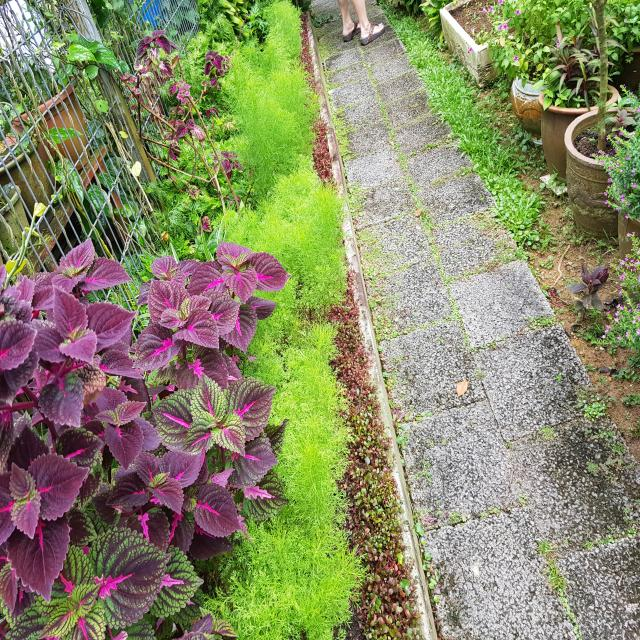Coleus: (0, 224, 128, 468), (0, 515, 155, 639), (0, 427, 89, 598), (160, 376, 272, 472), (139, 276, 231, 368), (188, 241, 291, 312), (135, 25, 176, 70), (202, 48, 234, 84), (219, 149, 240, 175), (175, 118, 200, 138), (170, 80, 190, 103)
Dill: (284, 328, 357, 518), (254, 537, 372, 633), (250, 45, 312, 167), (260, 174, 332, 242)
